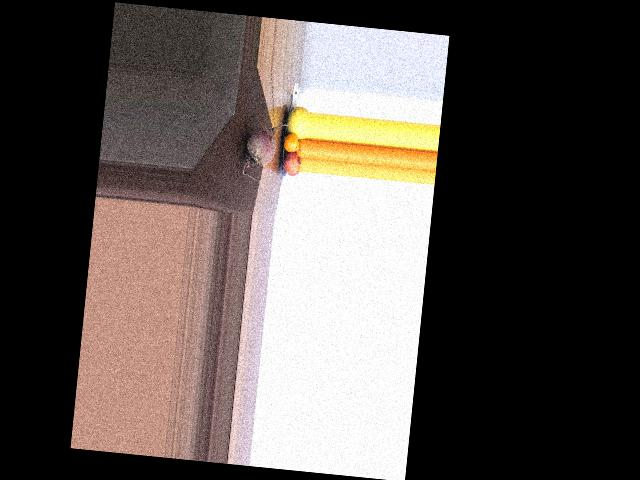beet: (241, 120, 291, 184)
